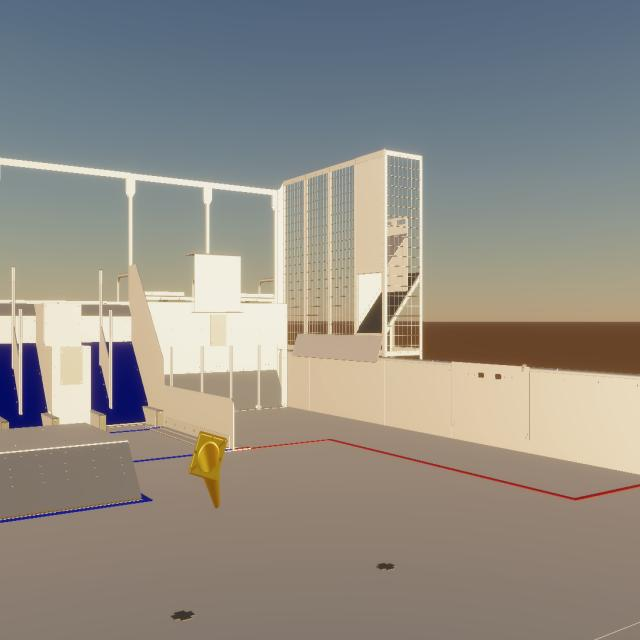frc_cone: (189, 431, 227, 508)
